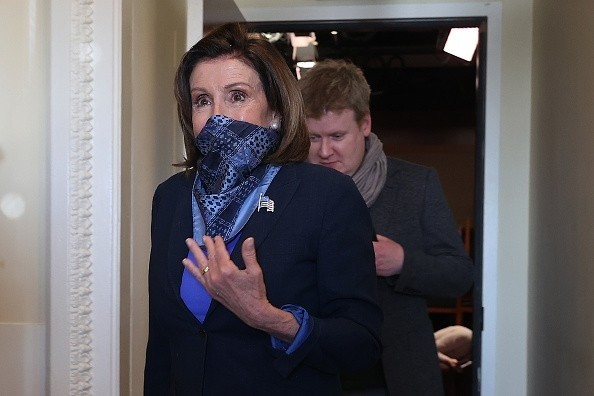face_no_mask: (300, 62, 374, 175)
face_with_mask: (180, 34, 299, 177)
